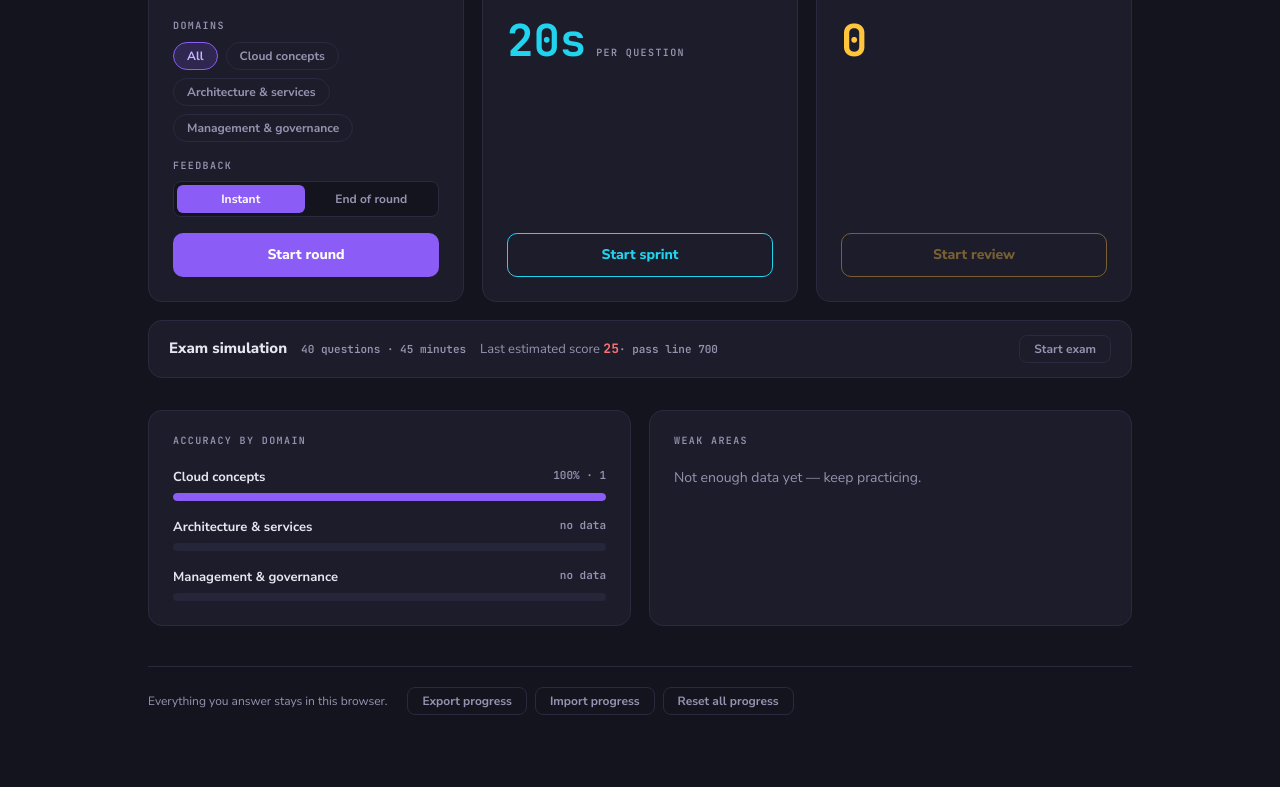
DashboardView › arms the reset before it deletes anything, then clears all progress
(page scrolled)
Click the button "Reset all progress". click: {"x": 728, "y": 701}
box: x1=663 y1=687 x2=794 y2=715
Wait 1000 ms
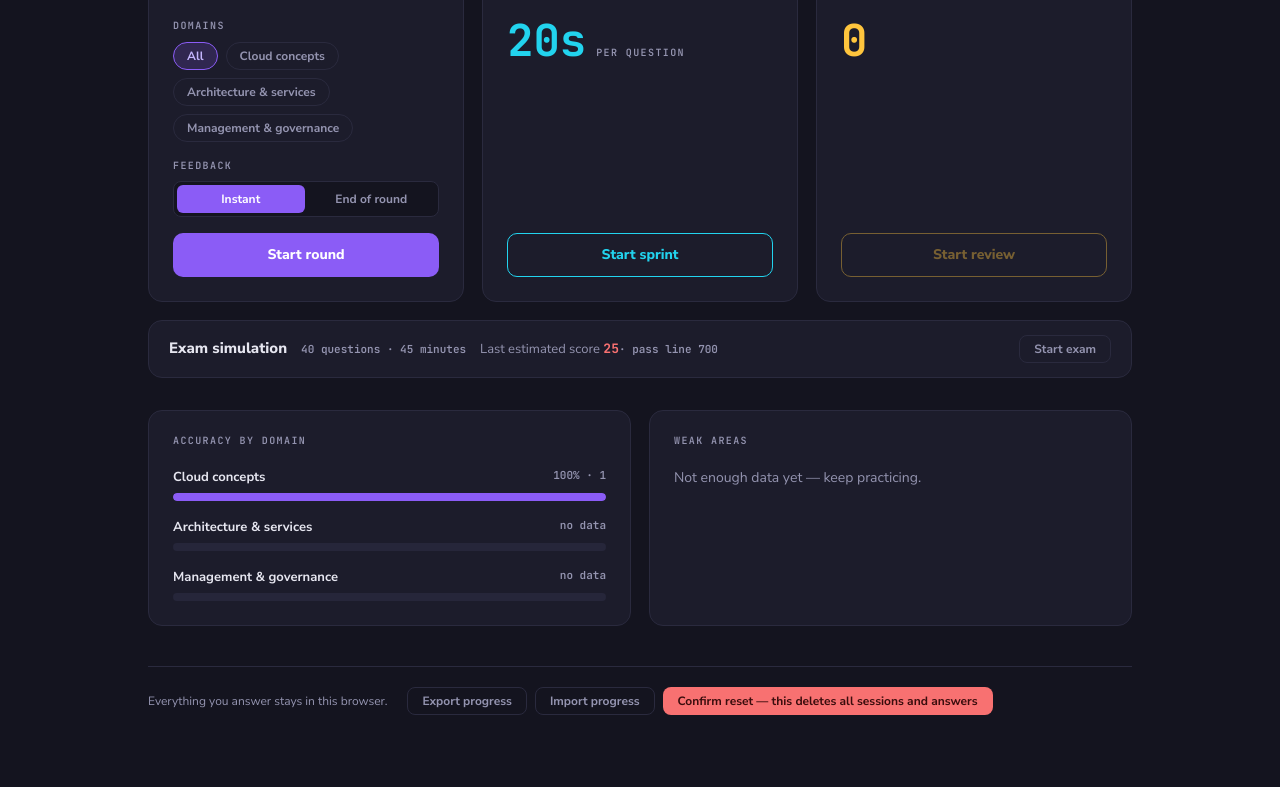
Click the button "Confirm reset — this deletes all sessions and answers". click: {"x": 828, "y": 701}
box: x1=663 y1=687 x2=993 y2=715
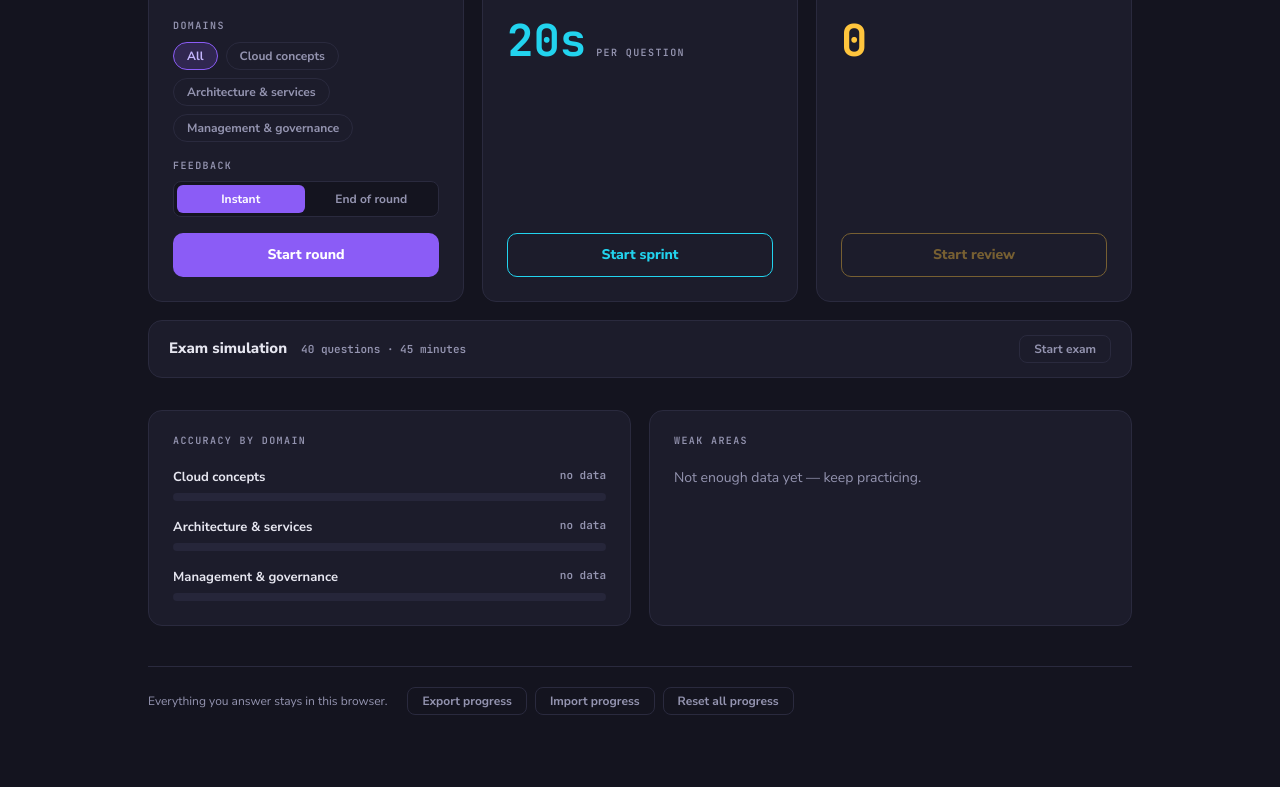
Check: the button "Reset all progress" is shown, box x1=663 y1=687 x2=794 y2=715
